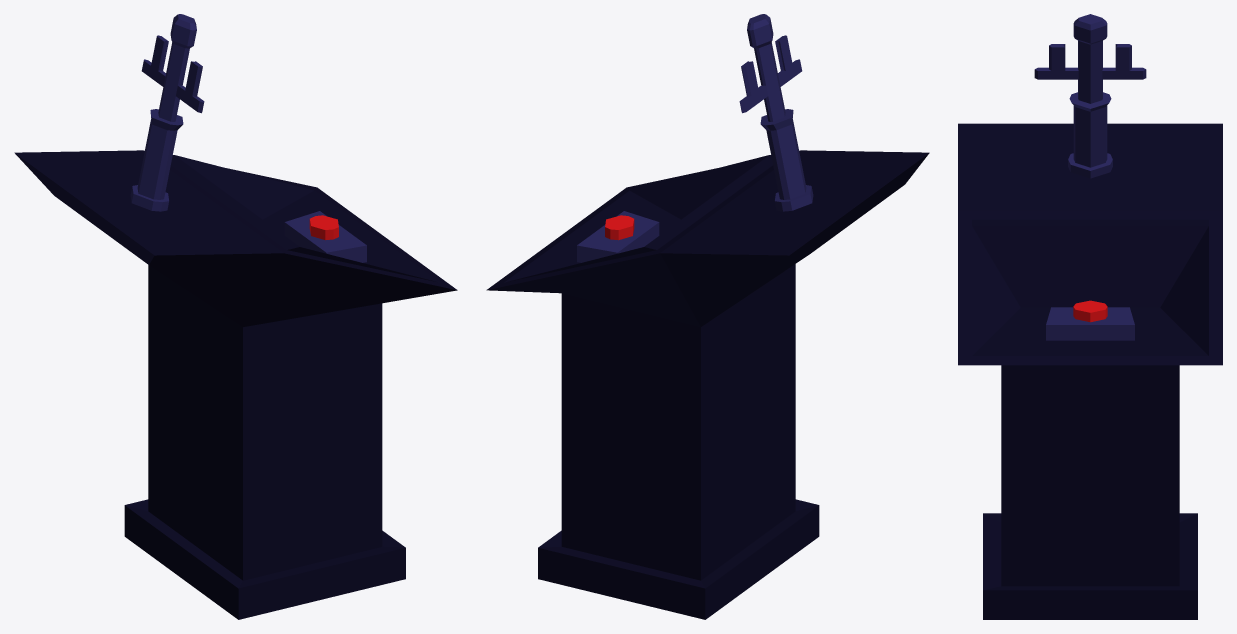
The model's file is Teleporter.fbx.
The picture shows the model from 3 angles, left to right: view 1: azimuth 30°, elevation 25°; view 2: azimuth 150°, elevation 25°; view 3: azimuth 270°, elevation 25°; orthographic projection. The views are drawn at different scales.
Parts seen in each view (by area): view 1: Cube; view 2: Cube; view 3: Cube.
Boxes of the visible parts, x1=… form: Cube: x1=14, y1=14, x2=457, y2=619; Cube: x1=486, y1=14, x2=929, y2=619; Cube: x1=958, y1=14, x2=1222, y2=619.
Size of the model in its own units: 151 by 267 by 121.
